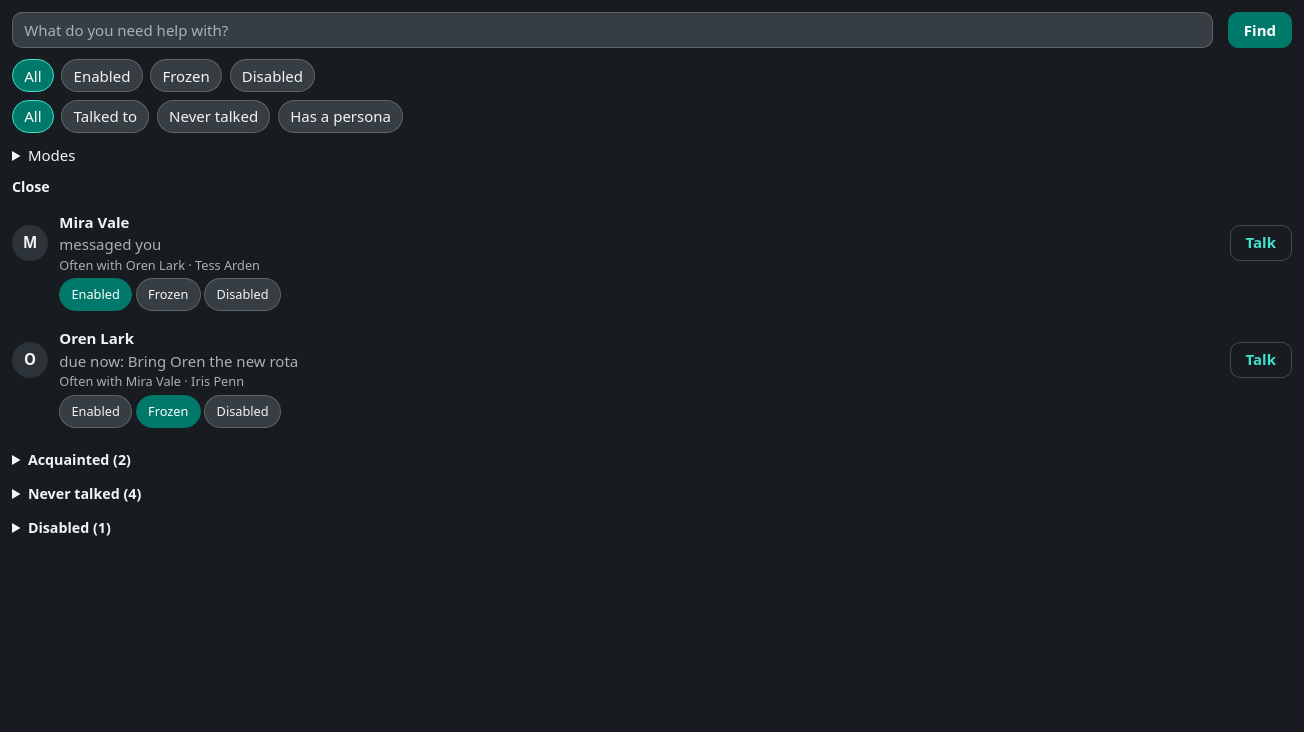
Test: the filters also narrow what a topic search found
Type "zzzz" into the search field with placeholder "What do you need help with?".
click(612, 30); type("zzzz")  # box [12, 12, 1213, 48]
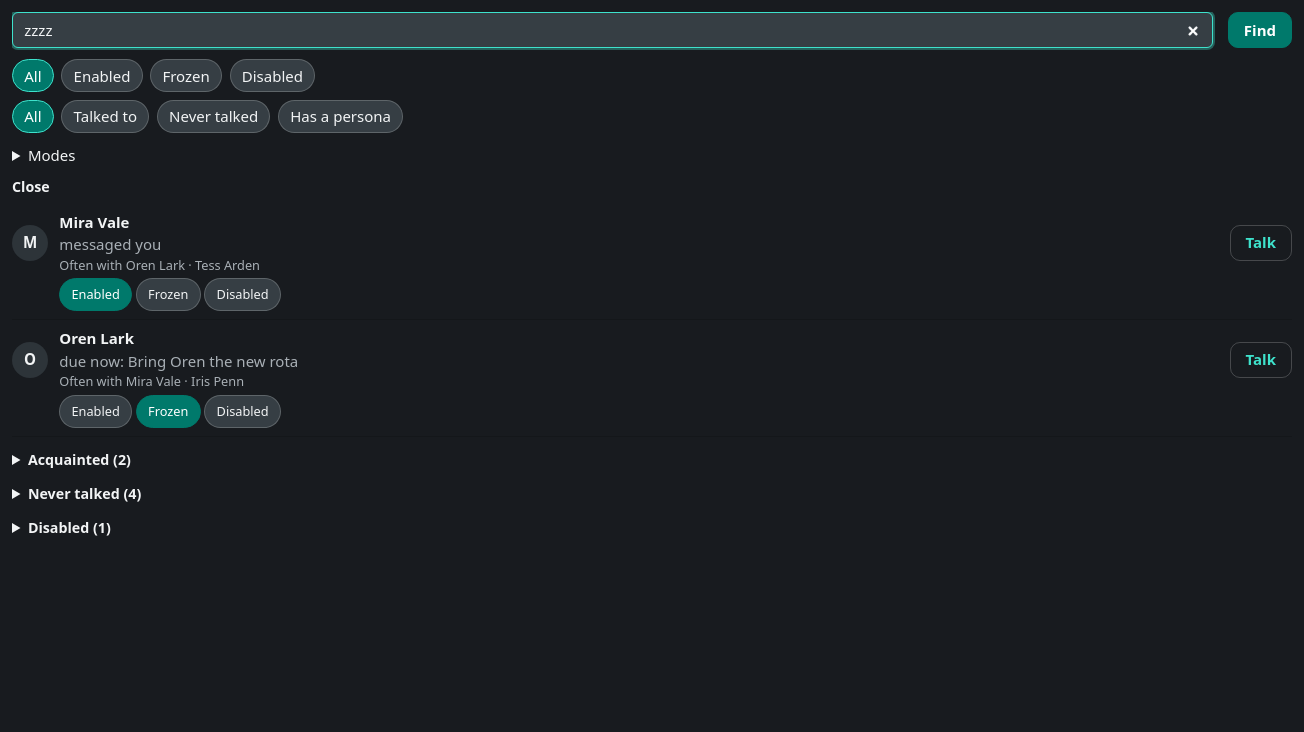
Click the button "Find".
click(1260, 30)  # box [1228, 12, 1292, 48]
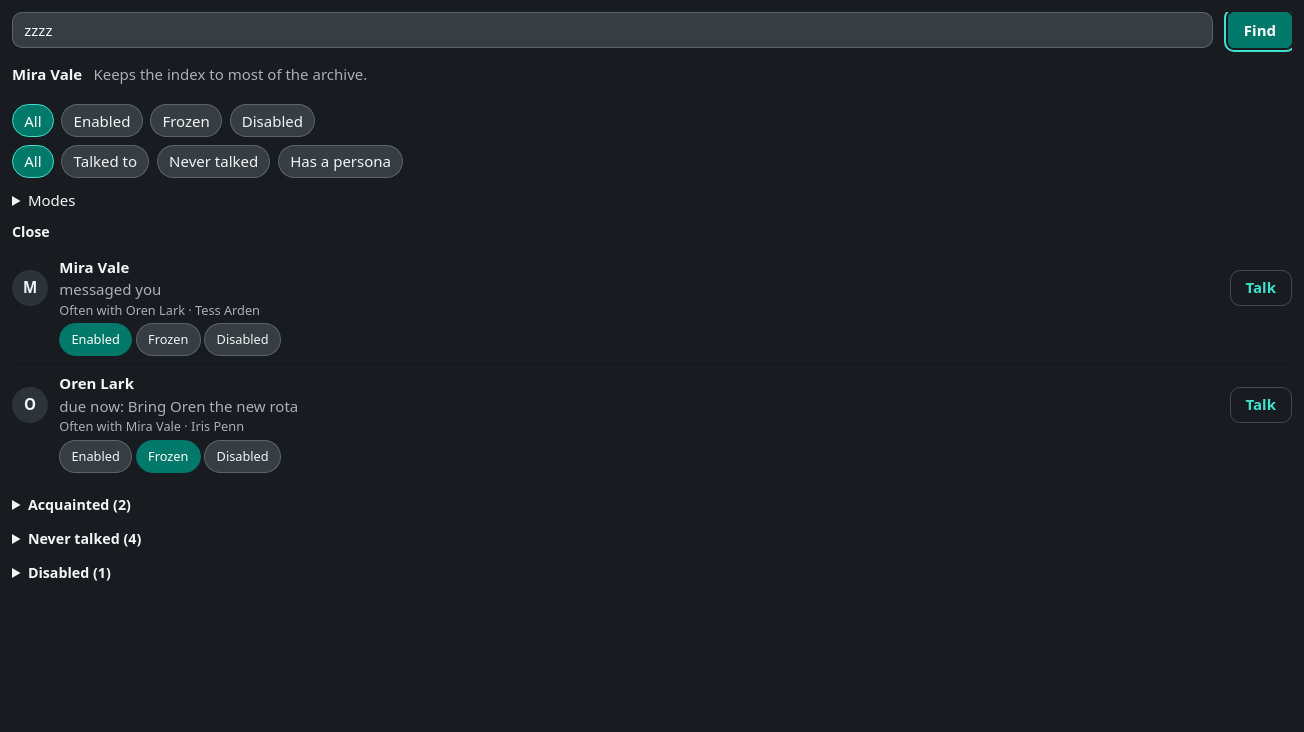
Check: the list with class "candidates" is shown, box [12, 63, 367, 86]
Note: With no match the stand-in offers Mira, who is enabled and has been talked to.
Click the button "Never talked".
click(214, 161)  # box [157, 145, 270, 178]
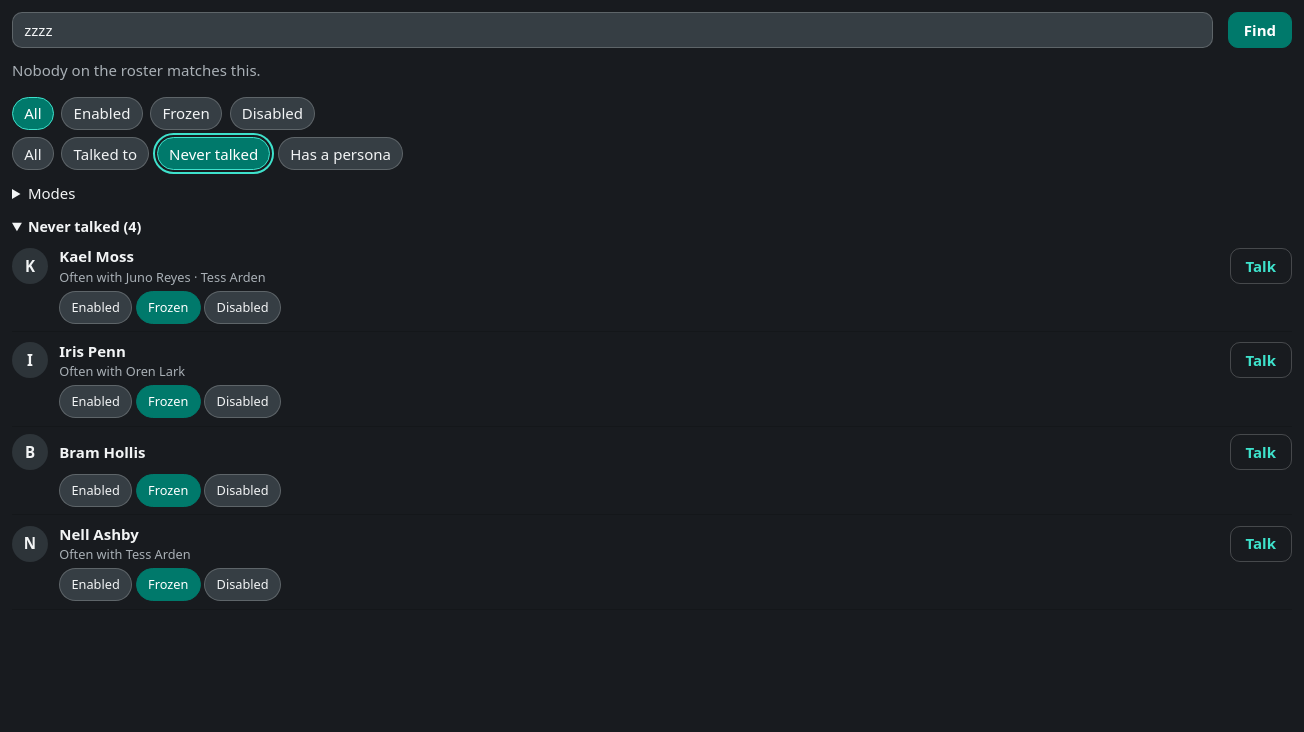
Check: the list with class "candidates" is gone
Click the button "Talked to".
click(105, 154)  # box [61, 137, 149, 170]
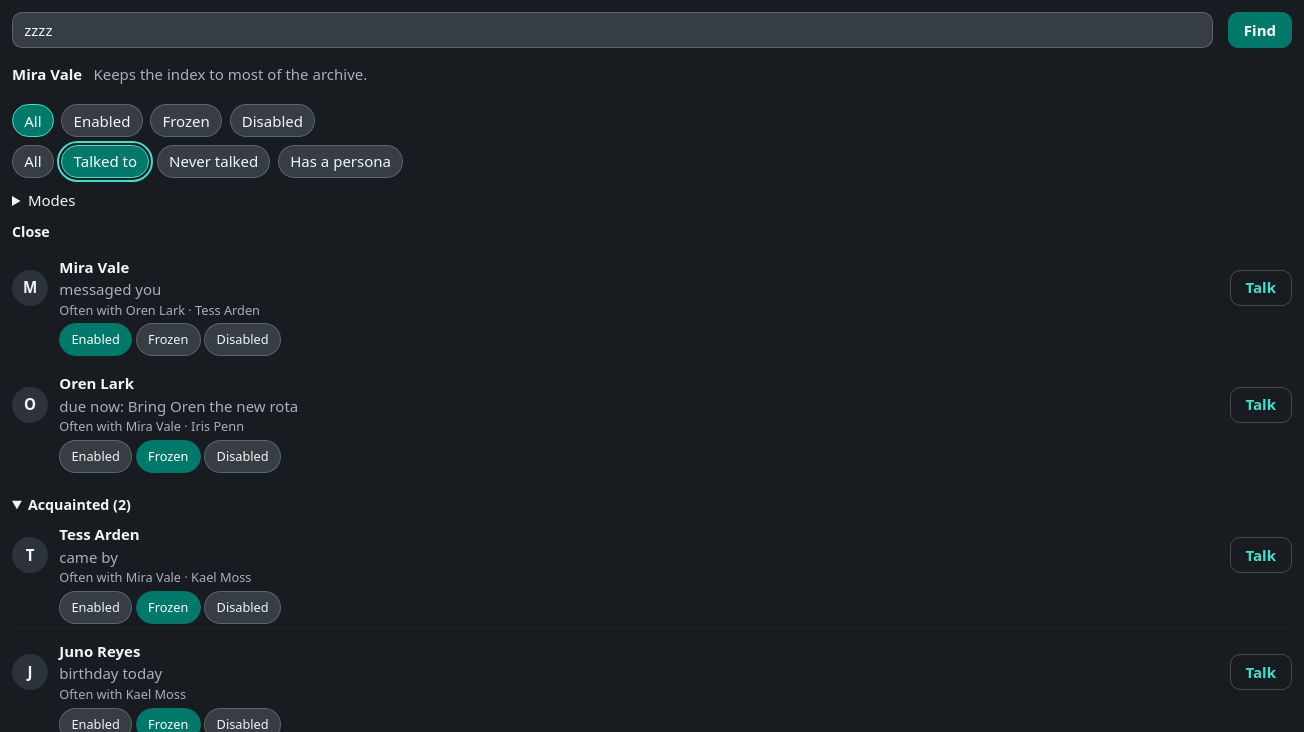
Check: the list with class "candidates" is shown, box [12, 63, 367, 86]
